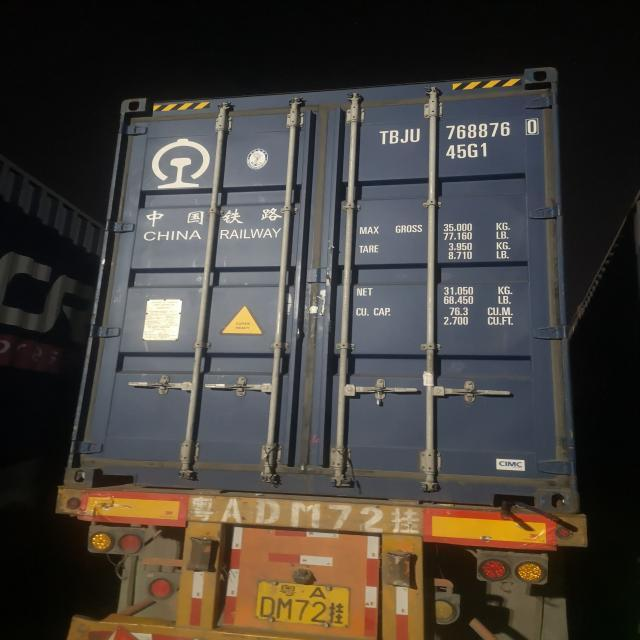ISO: (446, 142, 486, 160)
container_number: (381, 120, 545, 141)
